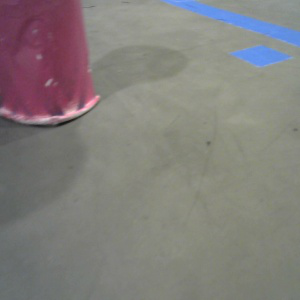middle: (1, 1, 100, 125)
